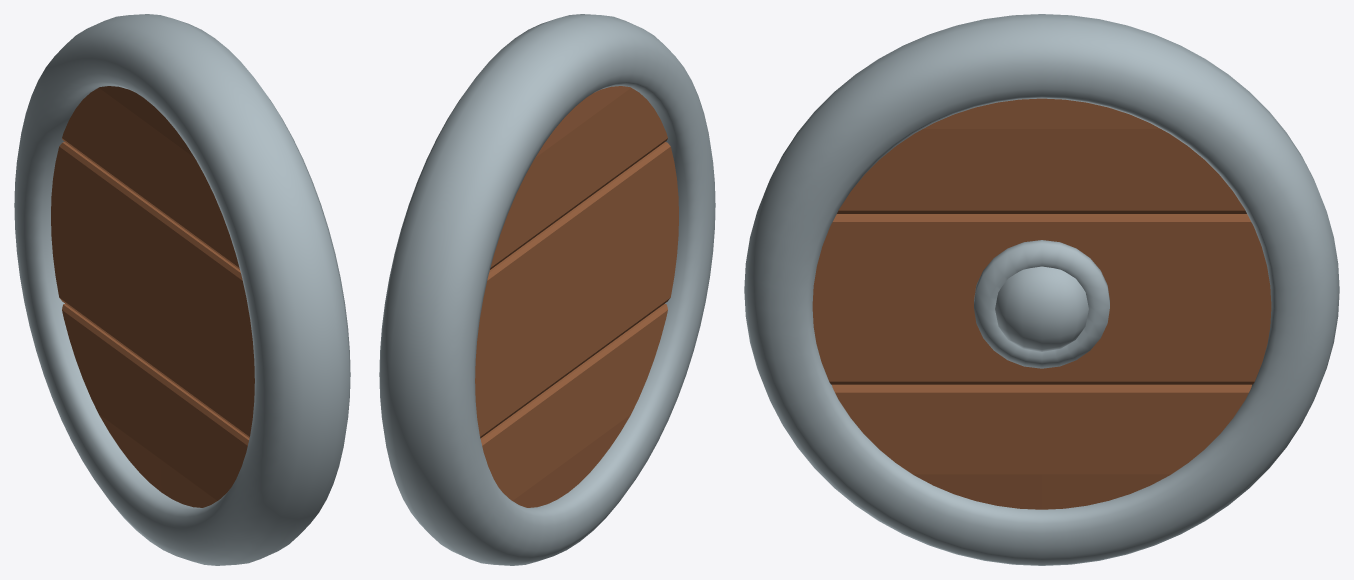
File: shield_round.glb
The picture shows the model from 3 angles, left to right: view 1: azimuth 30°, elevation 25°; view 2: azimuth 150°, elevation 25°; view 3: azimuth 270°, elevation 25°; orthographic projection. The views are drawn at different scales.
Parts seen in each view (by area): view 1: shield_round; view 2: shield_round; view 3: shield_round.
Part boxes in pixels (x1,y1,x2,y2): shield_round: (14, 14, 350, 565); shield_round: (379, 14, 715, 565); shield_round: (744, 14, 1339, 565).
Size of the model in its own units: 0.3032 by 1.41 by 1.41.
